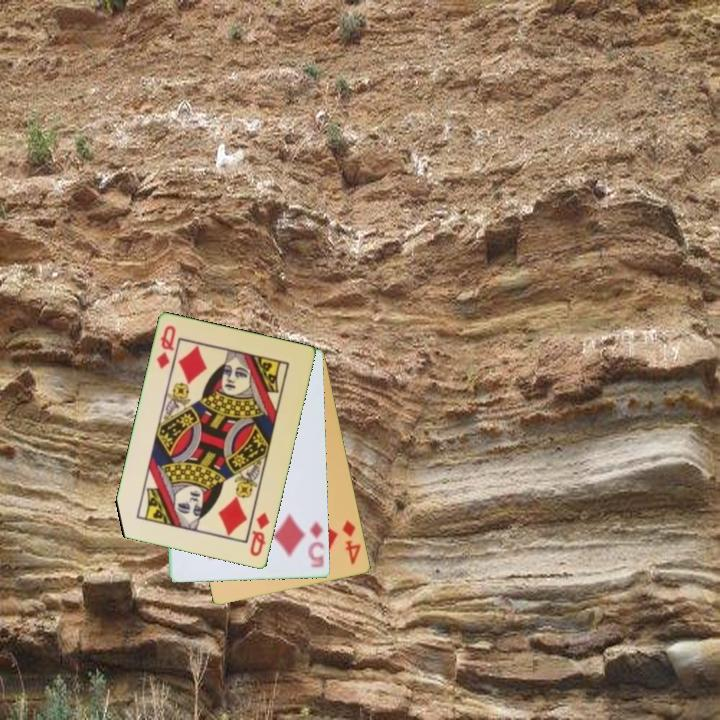4d: (339, 517, 364, 567)
5d: (305, 519, 327, 571)
Qd: (247, 509, 273, 560), (153, 322, 179, 372)
